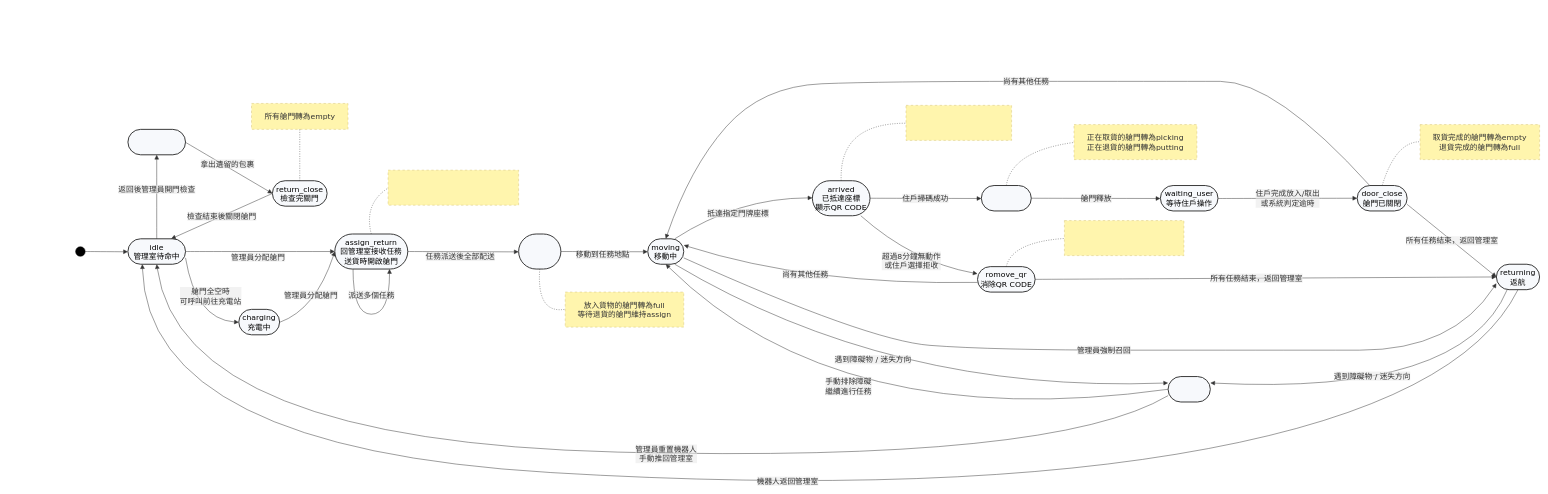
This 1548x494 diagram has some shape labels left out. The centre of each missing label's shape, as x and y in pixels:
"dispatch 全部派送 關閉艙門" goes at pixel 539 251.
"door_open 艙門已開啟" goes at pixel 1006 198.
"return_open 返航開門檢查" goes at pixel 156 142.
"stuck 無法移動" goes at pixel 1189 389.
"所有被選取的艙門轉為assign 送貨的艙門開啟後轉為loading" goes at pixel 453 187.
"此時機器人不允許移動 不中斷取/放貨" goes at pixel 959 122.
"等待取貨的艙門維持full 等待退貨的艙門轉為empty" goes at pixel 1124 238.
